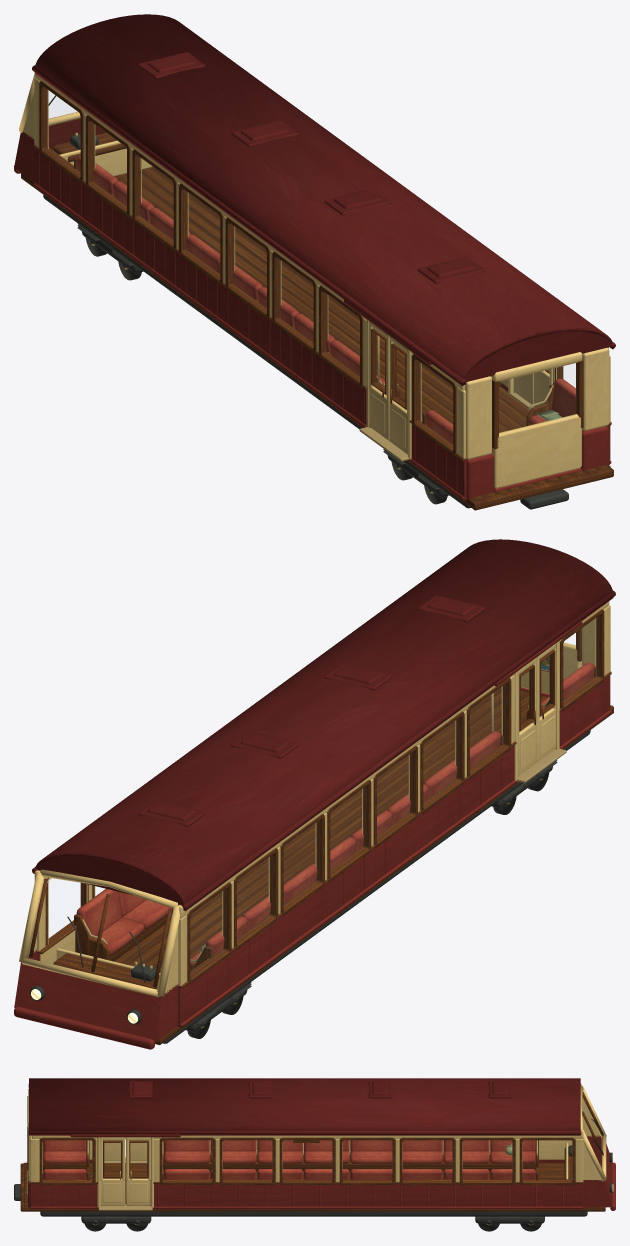
File: carriage.glb
3 views of the same model, one above another, from view 1: azimuth 30°, elevation 25°; view 2: azimuth 150°, elevation 25°; view 3: azimuth 270°, elevation 25° (orthographic). The views are drawn at different scales.
Visible parts, largest first — view 1: PaintedCarriage, RunningGear, DoorLeftForward, DoorLeftRear, BrassFittings; view 2: PaintedCarriage, RunningGear, DoorLeftRear, DoorLeftForward, BrassFittings; view 3: PaintedCarriage, RunningGear, BrassFittings, DoorLeftForward, DoorLeftRear.
Part boxes in pixels (x1=…): PaintedCarriage: x1=14, y1=14, x2=615, y2=510; RunningGear: x1=43, y1=95, x2=568, y2=509; DoorLeftForward: x1=369, y1=321, x2=389, y2=440; DoorLeftRear: x1=389, y1=336, x2=407, y2=454; BrassFittings: x1=75, y1=132, x2=553, y2=493; PaintedCarriage: x1=14, y1=539, x2=615, y2=1049; RunningGear: x1=30, y1=730, x2=590, y2=1043; DoorLeftRear: x1=536, y1=643, x2=556, y2=762; DoorLeftForward: x1=518, y1=657, x2=536, y2=775; BrassFittings: x1=82, y1=693, x2=566, y2=1028; PaintedCarriage: x1=20, y1=1078, x2=615, y2=1211; RunningGear: x1=14, y1=1119, x2=612, y2=1231; BrassFittings: x1=87, y1=1140, x2=537, y2=1225; DoorLeftForward: x1=130, y1=1143, x2=147, y2=1160; DoorLeftRear: x1=104, y1=1143, x2=120, y2=1160.
Bounding box in the file's own units: 3.29 × 3.75 × 16.05.
Materials: 5 (1 with a texture image).
